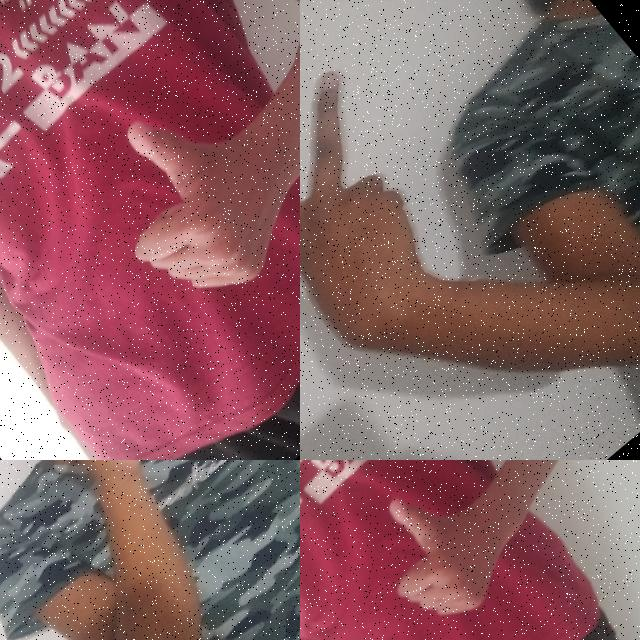Fist Mouth: (0, 460, 230, 538)
Reversed Victory: (300, 36, 521, 394)
Thumbs Up: (61, 48, 300, 339), (342, 460, 537, 640)
